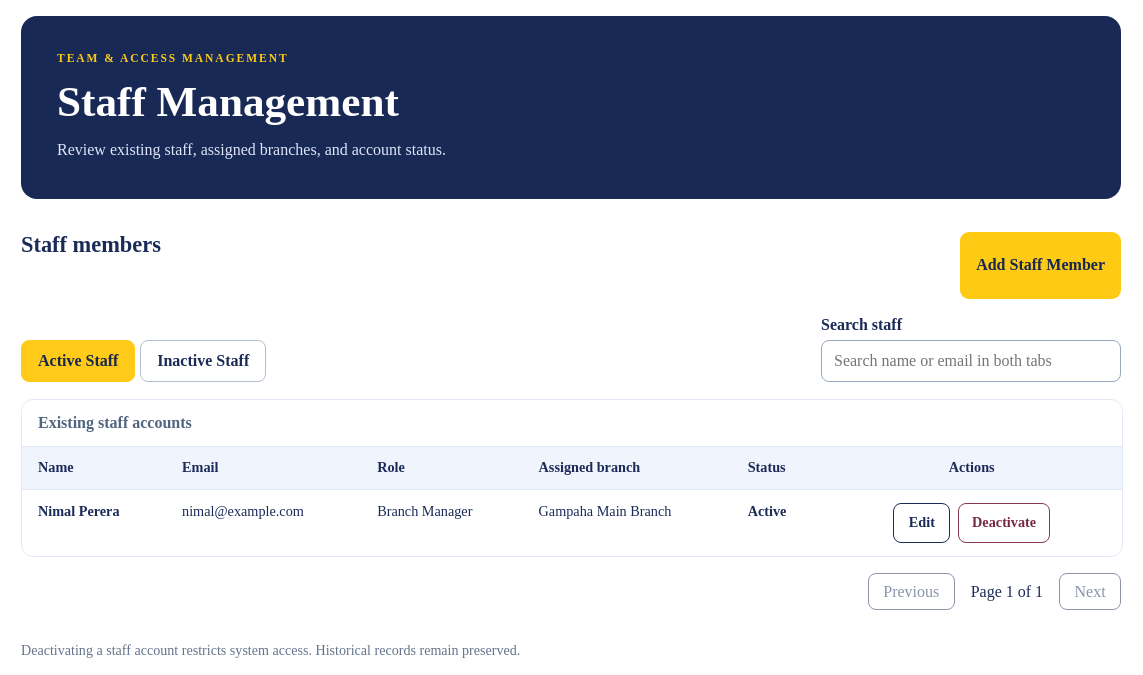
Scenario: searches staff on both status tabs via the paginated backend filter
Check: the column heading "Nimal Perera" is shown, box x1=22 y1=490 x2=166 y2=556
Check: the text "Saman Perera" is not shown
Type "Saman" into the search field labelled "Search staff" at (971, 361), box x1=821 y1=340 x2=1121 y2=382
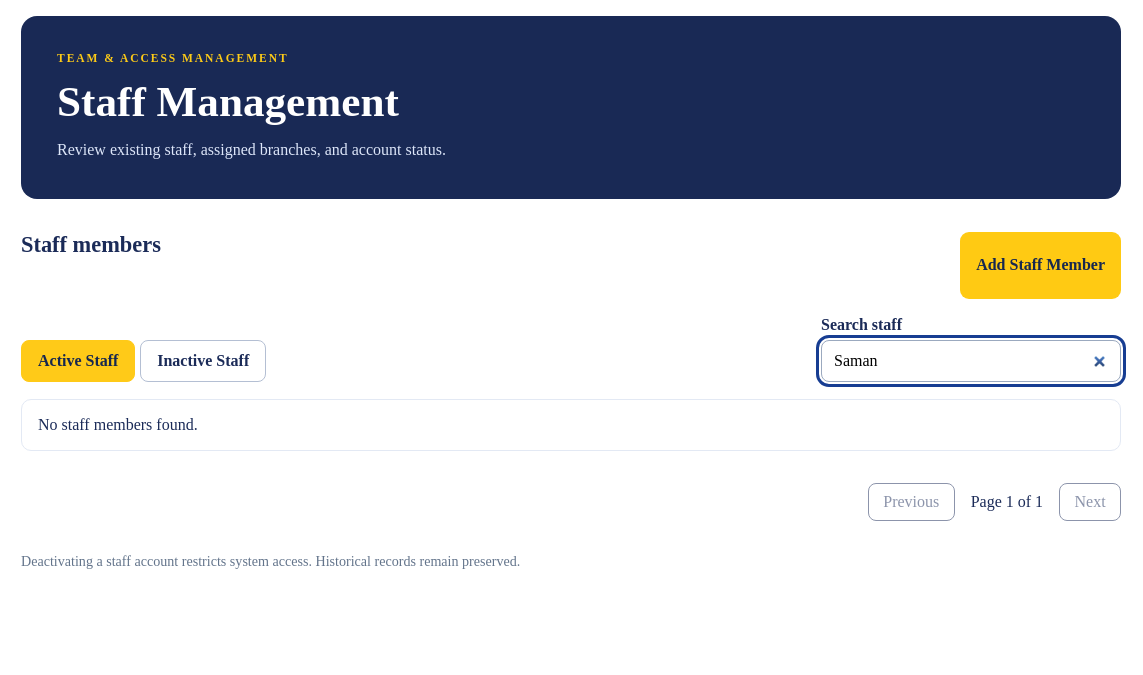
Check: the column heading "Nimal Perera" is gone
Click the button "Inactive Staff" at (203, 361), box x1=140 y1=340 x2=266 y2=382
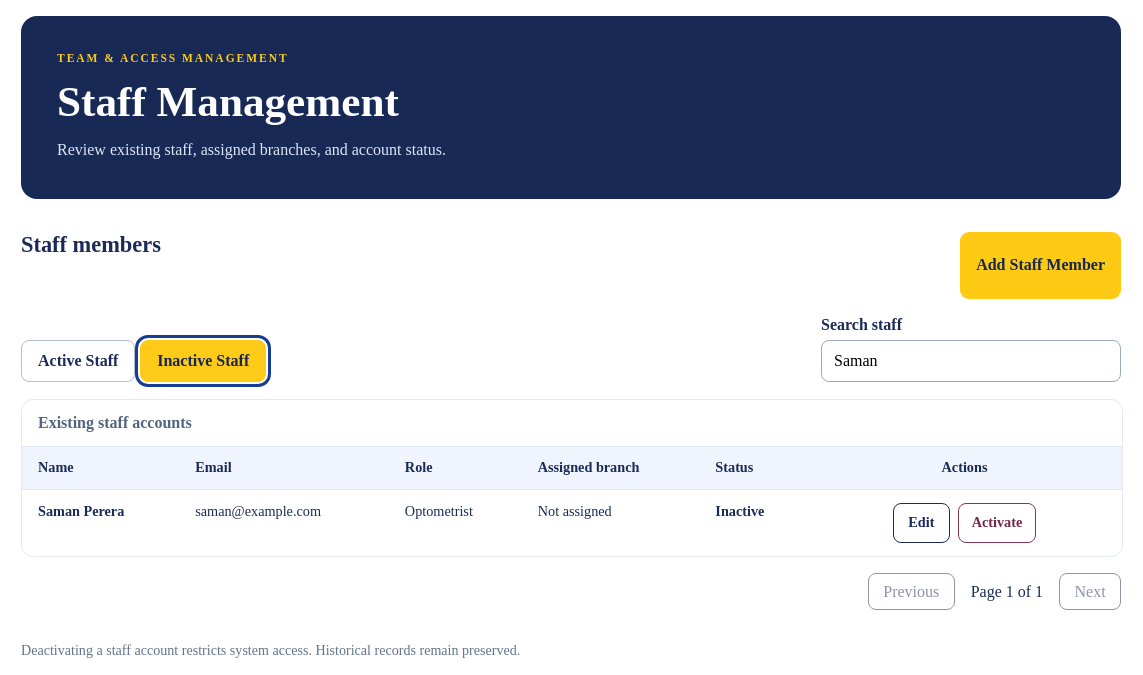
Check: the column heading "Saman Perera" is shown, box x1=22 y1=490 x2=179 y2=556
Click the button "Active Staff" at (78, 361), box x1=21 y1=340 x2=135 y2=382
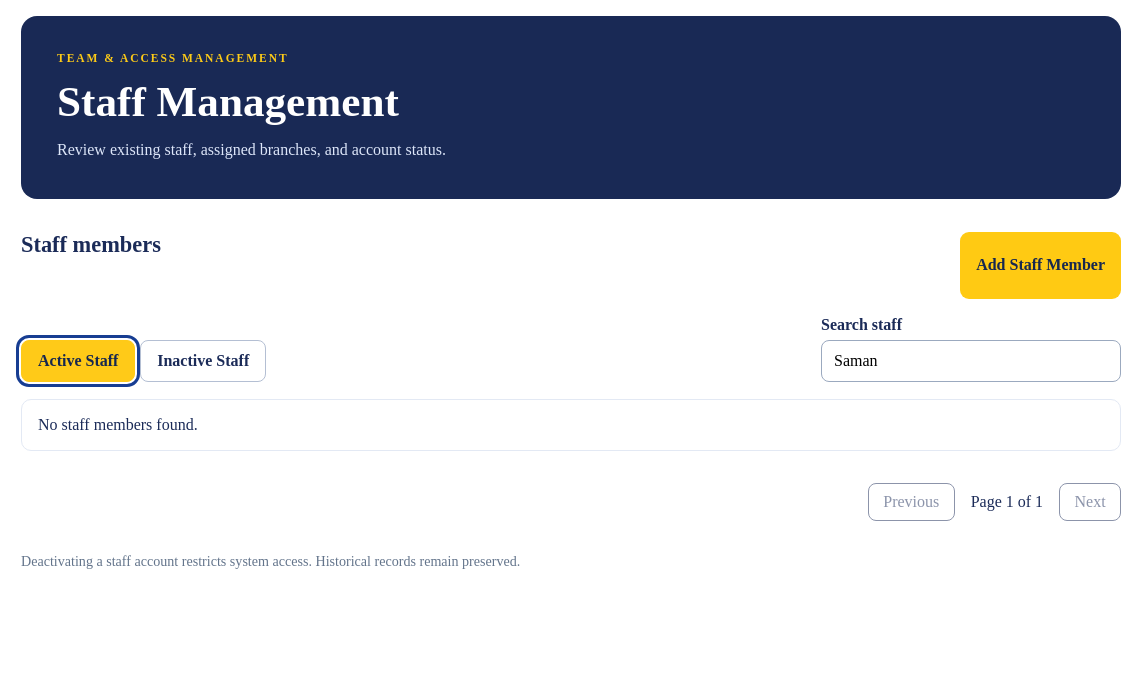
Check: the text "No staff members found." is shown, box x1=21 y1=399 x2=1121 y2=451
